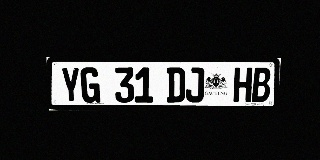1: (134, 67, 153, 103)
3: (115, 67, 134, 103)
B: (252, 68, 271, 102)
D: (167, 67, 185, 103)
G: (80, 67, 100, 103)
H: (233, 68, 253, 102)
J: (185, 67, 204, 102)
Y: (60, 67, 81, 103)
